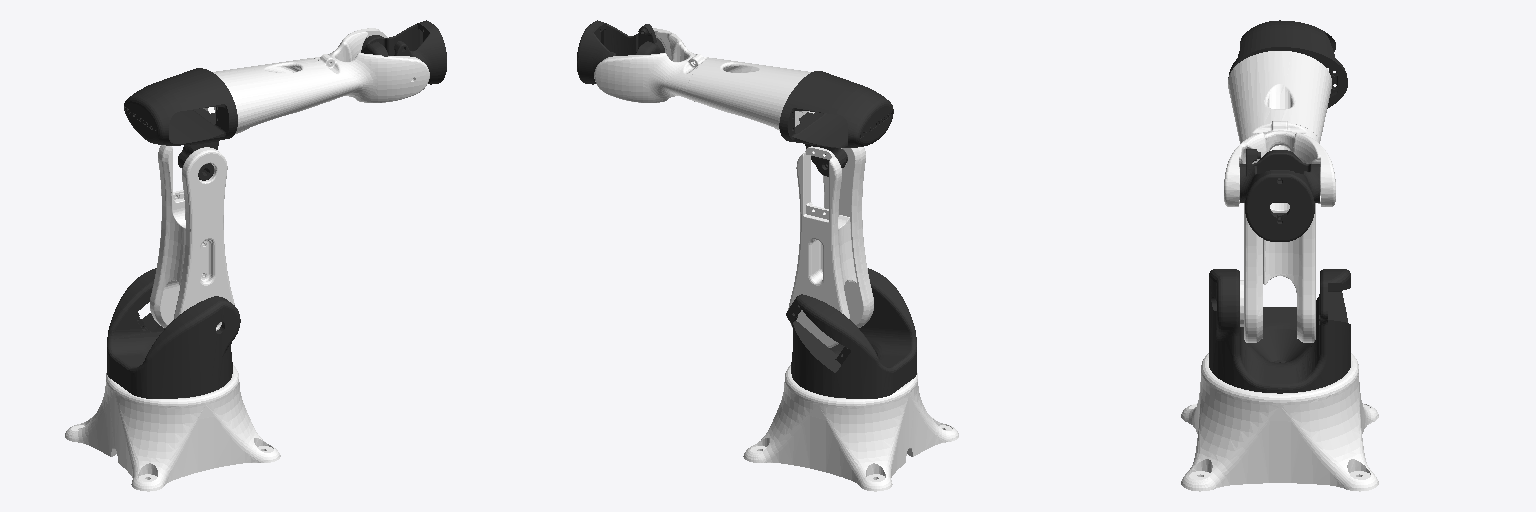
The robot description file, URDF, robot "robotic_arm":
<?xml version="1.0" encoding="utf-8"?>
<!-- This URDF was automatically created by SolidWorks to URDF Exporter! Originally created by [author] ([email redacted]) 
     Commit Version: 1.6.0-1-g15f4949  Build Version: 1.6.7594.29634
     For more information, please see http://wiki.ros.org/sw_urdf_exporter -->
<robot
  name="robotic_arm">
  <link name="world"/>
  <joint name="base_joint" type="fixed">
    <parent link="world"/>
    <child link="base_link"/>
    <origin rpy="0 0 0" xyz="0 0 0"/>
  </joint>
  <link
    name="base_link">
    <inertial> 
      <origin
        xyz="0 0 0.03"
        rpy="1.5708 0 0" />
      <mass
        value="0.25616" />
      <inertia
        ixx="0.00037145"
        ixy="-8.62E-10"
        ixz="-2.7907E-10"
        iyy="0.00058726"
        iyz="-2.0838E-06"
        izz="0.00037738" />
    </inertial>
    <visual>
      <origin
        xyz="0 0 0"
        rpy="0 0 1.5708" />
      <geometry>
        <mesh
          filename="package://robotic_arm_urdf/meshes/base_link.STL" />
      </geometry>
      <material
        name="White">
        <color rgba="1 1 1 1"/>
      </material>
    </visual>
    <collision>
      <origin
        xyz="0 0 0"
        rpy="0 0 1.5708"/>
      <geometry>
        <mesh
          filename="package://robotic_arm_urdf/meshes/base_link.STL" />
      </geometry>
    </collision>
  </link>
  <link
    name="link_1">
    <inertial>
      <origin
        xyz="0 0 0.035"
        rpy="1.8 -0.17 0" />
      <mass
        value="0.20779" />
      <inertia
        ixx="0.0001674"
        ixy="1.3842E-05"
        ixz="3.3414E-06"
        iyy="0.00024041"
        iyz="-3.685E-06"
        izz="0.0002295" />
    </inertial>
    <visual>
      <origin
        xyz="0 0 0"
        rpy="1.5708 0 1.5708" />
      <geometry>
        <mesh
          filename="package://robotic_arm_urdf/meshes/link_1.STL" />
      </geometry>
      <material
        name="dark_gray">
        <color
          rgba="0.25098 0.25098 0.25098 1" />
      </material>
    </visual>
    <collision>
      <origin
        xyz="0 0 0"
        rpy="1.5708 0 1.5708" />
      <geometry>
        <mesh
          filename="package://robotic_arm_urdf/meshes/link_1.STL" />
      </geometry>
    </collision>
  </link>
  <joint
    name="joint_1"
    type="revolute">
    <origin
      xyz="0 0 0.059913"
      rpy="0 0 0" />
    <parent
      link="base_link" />
    <child
      link="link_1" />
    <axis
      xyz="0 0 1" />
    <limit
      lower="-1.57"
      upper="1.57"
      effort="1.177"
      velocity="1" />
  </joint>
  <link
    name="link_2">
    <inertial>
      <origin
        xyz="0.054 0 0"
        rpy="0 0 1.5708" />
      <mass
        value="0.13588" />
      <inertia
        ixx="0.00024105"
        ixy="-5.2785E-07"
        ixz="-4.9787E-12"
        iyy="2.2277E-05"
        iyz="-2.6534E-11"
        izz="0.00023285" />
    </inertial>
    <visual>
      <origin
        xyz="0 0 0"
        rpy="0 -1.5708 -1.5708" />
      <geometry>
        <mesh
          filename="package://robotic_arm_urdf/meshes/link_2.STL" />
      </geometry>
      <material
        name="white">
        <color
          rgba="1 1 1 1" />
      </material>
    </visual>
    <collision>
      <origin
        xyz="0 0 0"
        rpy="0 -1.5708 -1.5708" />
      <geometry>
        <mesh
          filename="package://robotic_arm_urdf/meshes/link_2.STL" />
      </geometry>
    </collision>
  </link>
  <joint
    name="joint_2"
    type="revolute">
    <origin
      xyz="0.017415 0 0.050054"
      rpy="-1.5708 -1.5708 0" />
    <parent
      link="link_1" />
    <child
      link="link_2" />
    <axis
      xyz="0 0 1" />
    <limit
      lower="-1.57" 
      upper="1.95"
      effort="1.176"
      velocity="1" />   <!-- U: -0.52, L: 2.00 -->
      </joint>
  <link
    name="link_3">
    <inertial>
      <origin
        xyz="0.028 -0.003 0"
        rpy="0.87 0 -1.4" />
      <mass
        value="0.071846" />
      <inertia
        ixx="5.3637E-05"
        ixy="-1.7864E-06"
        ixz="1.2909E-06"
        iyy="4.2179E-05"
        iyz="3.3425E-06"
        izz="4.1886E-05" />
    </inertial>
    <visual>
      <origin
        xyz="0.04275 0.02 0"
        rpy="0 -1.5708 -1.5708" />
      <geometry>
        <mesh
          filename="package://robotic_arm_urdf/meshes/link_3.STL" />
      </geometry>
      <material
        name="dark_gray">
        <color
          rgba="0.25098 0.25098 0.25098 1" />
      </material>
    </visual>
    <collision>
      <origin
        xyz="0.04275 0.02 0"
        rpy="0 -1.5708 -1.5708" />
      <geometry>
        <mesh
          filename="package://robotic_arm_urdf/meshes/link_3.STL" />
      </geometry>
    </collision>
  </link>
  <joint
    name="joint_3"
    type="revolute">
    <origin
      xyz="0.120 0 0"
      rpy="0 0 0" />
    <parent
      link="link_2" />
    <child
      link="link_3" />
    <axis
      xyz="0 0 1" />
    <limit
      lower="-1.57"
      upper="1.57"
      effort="1.15"
      velocity="1" />
      </joint>
  <link
    name="link_4">
    <inertial>
      <origin
        xyz="0 0 0.067"
        rpy="0 0.17 -1.5708" />
      <mass
        value="0.15537" />
      <inertia
        ixx="0.00024751"
        ixy="-1.1572E-06"
        ixz="3.1937E-05"
        iyy="0.00027619"
        iyz="6.9992E-06"
        izz="5.2464E-05" />
    </inertial>
    <visual>
      <origin
        xyz="0 0 0"
        rpy="0 0 -1.5708" />
      <geometry>
        <mesh
          filename="package://robotic_arm_urdf/meshes/link_4.STL" />
      </geometry>
      <material
        name="white">
        <color
          rgba="1 1 1 1" />
      </material>
    </visual>
    <collision>
      <origin
        xyz="0 0 0"
        rpy="0 0 -1.5708" />
      <geometry>
        <mesh
          filename="package://robotic_arm_urdf/meshes/link_4.STL" />
      </geometry>
    </collision>
  </link>
  <joint
    name="joint_4"
    type="revolute">
    <origin
      xyz="0.04275 0.02 0"
      rpy="-1.5708 0 0" />
    <parent
      link="link_3" />
    <child
      link="link_4" />
    <axis
      xyz="0 0 1" />
    <limit
      lower="-1.57"
      upper="1.57"
      effort="1.15"
      velocity="1" />
      </joint>
  <link
    name="link_5">
    <inertial>
      <origin
        xyz="0 0.01 0"
        rpy="0 0 1.5708" />
      <mass
        value="0.034272" />
      <inertia
        ixx="1.6028E-05"
        ixy="1.5779E-07"
        ixz="1.2797E-08"
        iyy="1.9491E-05"
        iyz="2.3501E-07"
        izz="1.0217E-05" />
    </inertial>
    <visual>
      <origin
        xyz="0 0.038 0"
        rpy="0 -1.5708 -1.5708" />
      <geometry>
        <mesh
          filename="package://robotic_arm_urdf/meshes/link_5.STL" />
      </geometry>
      <material
        name="dark_gray">
        <color
          rgba="0.25098 0.25098 0.25098 1" />
      </material>
    </visual>
    <collision>
      <origin
        xyz="0 0.038 0"
        rpy="0 -1.5708 -1.5708" />
      <geometry>
        <mesh
          filename="package://robotic_arm_urdf/meshes/link_5.STL" />
      </geometry>
    </collision>
  </link>
  <joint
    name="joint_5"
    type="revolute">
    <origin
      xyz="0 0 0.150"
      rpy="1.5708 0 0" />
    <parent
      link="link_4" />
    <child
      link="link_5" />
    <axis
      xyz="0 0 1" />
    <limit
      lower="-1.57"
      upper="1.57"
      effort="0.14"
      velocity="1" />
      </joint>
  <transmission name="link_1_trans">
    <type>transmission_interface/SimpleTransmission</type>
    <joint name="joint_1">
      <hardwareInterface>hardware_interface/PositionJointInterface</hardwareInterface>
    </joint>
    <actuator name="link_1_motor">
      <hardwareInterface>hardware_interface/PositionJointInterface</hardwareInterface>
      <mechanicalReduction>1</mechanicalReduction>
    </actuator>
  </transmission>
  <transmission name="link_2_trans">
    <type>transmission_interface/SimpleTransmission</type>
    <joint name="joint_2">
      <hardwareInterface>hardware_interface/PositionJointInterface</hardwareInterface>
    </joint>
    <actuator name="link_2_motor">
      <hardwareInterface>hardware_interface/PositionJointInterface</hardwareInterface>
      <mechanicalReduction>1</mechanicalReduction>
    </actuator>
  </transmission>
  <transmission name="link_3_trans">
    <type>transmission_interface/SimpleTransmission</type>
    <joint name="joint_3">
      <hardwareInterface>hardware_interface/PositionJointInterface</hardwareInterface>
    </joint>
    <actuator name="link_3_motor">
      <hardwareInterface>hardware_interface/PositionJointInterface</hardwareInterface>
      <mechanicalReduction>1</mechanicalReduction>
    </actuator>
  </transmission>
  <transmission name="link_4_trans">
    <type>transmission_interface/SimpleTransmission</type>
    <joint name="joint_4">
      <hardwareInterface>hardware_interface/PositionJointInterface</hardwareInterface>
    </joint>
    <actuator name="link_4_motor">
      <hardwareInterface>hardware_interface/PositionJointInterface</hardwareInterface>
      <mechanicalReduction>1</mechanicalReduction>
    </actuator>
  </transmission>
  <transmission name="link_5_trans">
    <type>transmission_interface/SimpleTransmission</type>
    <joint name="joint_5">
      <hardwareInterface>hardware_interface/PositionJointInterface</hardwareInterface>
    </joint>
    <actuator name="link_5_motor">
      <hardwareInterface>hardware_interface/PositionJointInterface</hardwareInterface>
      <mechanicalReduction>1</mechanicalReduction>
    </actuator>
  </transmission> 
  <gazebo>
    <!--<plugin filename="libgazebo_ros_control.so" name="control">
      <robotNamespace>/</robotNamespace>
    </plugin>-->
    <plugin filename="libgazebo_ros_control.so" name="gazebo_ros_control">
      <robotNamespace>/</robotNamespace>
    </plugin>
  </gazebo>
  <gazebo reference="link_1">
    <selfCollide>true</selfCollide>
    <material>Gazebo/DarkGray</material>
  </gazebo>
  <gazebo reference="link_2">
    <selfCollide>true</selfCollide>
    <material>Gazebo/White</material>
  </gazebo>
  <gazebo reference="link_3">
    <selfCollide>true</selfCollide>
    <material>Gazebo/DarkGray</material>
  </gazebo>
  <gazebo reference="link_4">
    <selfCollide>true</selfCollide>
    <material>Gazebo/White</material>
  </gazebo>
  <gazebo reference="link_5">
    <selfCollide>true</selfCollide>
    <material>Gazebo/DarkGray</material>
  </gazebo>
</robot>

--- What the picture shows (computed from the rendered views, not written in the file) ---
3 views of the same robot in one strip: view 1: azimuth 30°, elevation 25°; view 2: azimuth 150°, elevation 25°; view 3: azimuth 270°, elevation 25° (orthographic).
Model robotic_arm with 7 links and 6 joints (5 revolute, 1 fixed), rooted at world, posed every joint at zero.
Visible links, largest first — view 1: base_link, link_1, link_4, link_2, link_3, link_5; view 2: base_link, link_1, link_2, link_4, link_3, link_5; view 3: base_link, link_1, link_4, link_2, link_5, link_3.
Link boxes in pixels (x1=…): base_link: x1=65, y1=365, x2=280, y2=491; link_1: x1=107, y1=268, x2=240, y2=398; link_4: x1=203, y1=28, x2=429, y2=133; link_2: x1=150, y1=145, x2=234, y2=330; link_3: x1=124, y1=68, x2=237, y2=180; link_5: x1=361, y1=20, x2=446, y2=84; base_link: x1=743, y1=365, x2=958, y2=491; link_1: x1=786, y1=268, x2=916, y2=398; link_2: x1=788, y1=146, x2=873, y2=347; link_4: x1=594, y1=28, x2=814, y2=130; link_3: x1=779, y1=71, x2=893, y2=176; link_5: x1=577, y1=20, x2=664, y2=84; base_link: x1=1181, y1=353, x2=1378, y2=491; link_1: x1=1209, y1=269, x2=1350, y2=393; link_4: x1=1224, y1=51, x2=1335, y2=206; link_2: x1=1240, y1=203, x2=1315, y2=342; link_5: x1=1240, y1=149, x2=1319, y2=241; link_3: x1=1228, y1=20, x2=1347, y2=108.
Bounding box of the posed robot: 0.2879 × 0.125 × 0.2977 m (x, y, z).
Meshes: 6 distinct files referenced, 6 mesh visuals loaded (6 binary STL).
